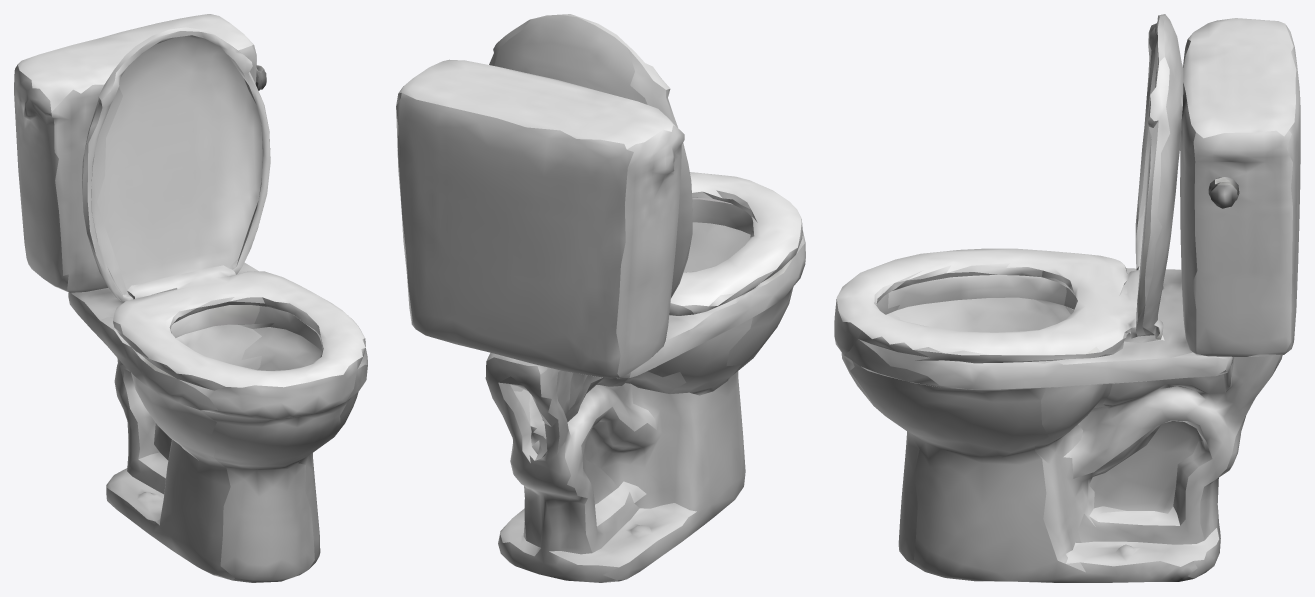
The model's file is toilet.glb.
3 renders of one model, left to right at view 1: azimuth 30°, elevation 25°; view 2: azimuth 150°, elevation 25°; view 3: azimuth 270°, elevation 25°, orthographic. The views are drawn at different scales.
Visible parts, largest first — view 1: geometry_0; view 2: geometry_0; view 3: geometry_0.
Boxes of the visible parts, <box> form: geometry_0: <box>14,14,367,582</box>; geometry_0: <box>396,14,805,582</box>; geometry_0: <box>834,14,1300,582</box>.
Bounding box in the file's own units: 0.4365 × 0.82 × 0.6554.
Materials: 1 (1 with a texture image).
